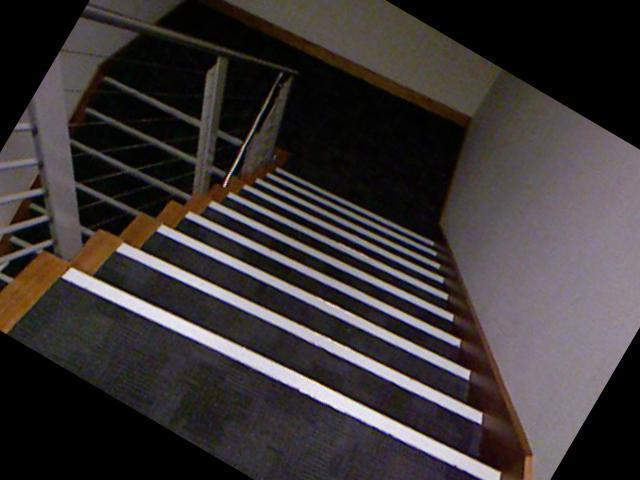Escaleras: (93, 99, 547, 480), (0, 64, 252, 395)
